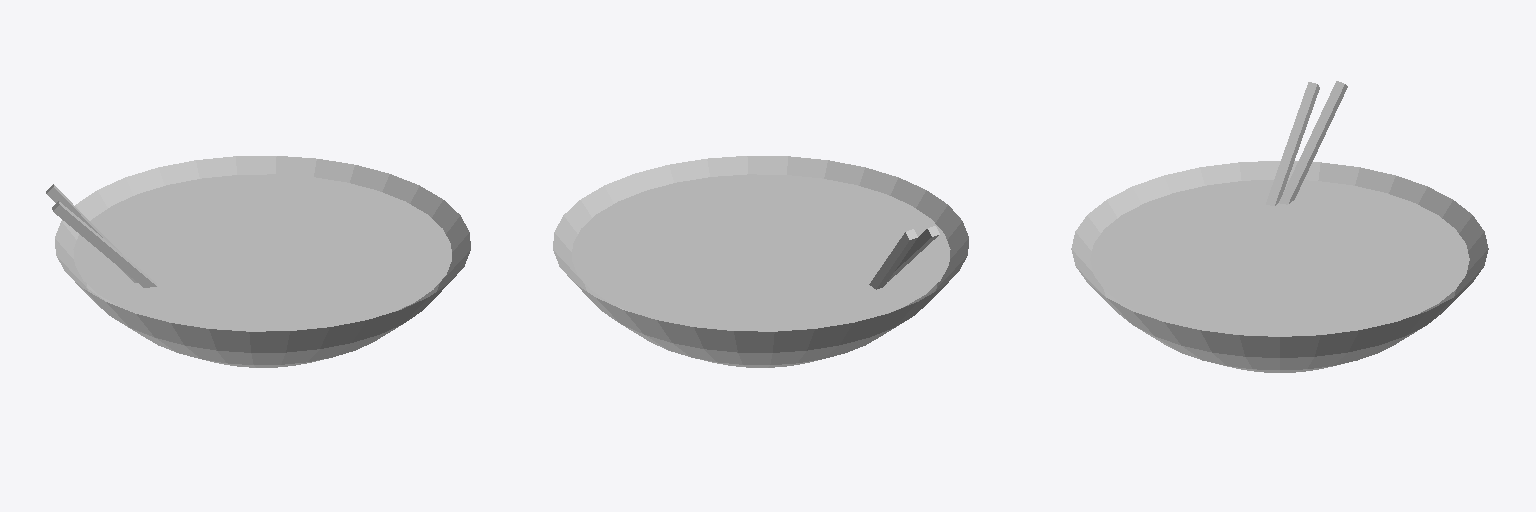
The model's file is soup.obj.
The picture shows the model from 3 angles: view 1: azimuth 30°, elevation 25°; view 2: azimuth 150°, elevation 25°; view 3: azimuth 270°, elevation 25°; orthographic projection.
Visible parts, largest first — view 1: Sphere; view 2: Sphere; view 3: Sphere.
Part boxes in pixels (bbox=[...]): Sphere: bbox=[46, 156, 470, 367]; Sphere: bbox=[553, 156, 968, 367]; Sphere: bbox=[1071, 81, 1488, 372].
Bounding box in the file's own units: 86.33 × 39.79 × 83.15.